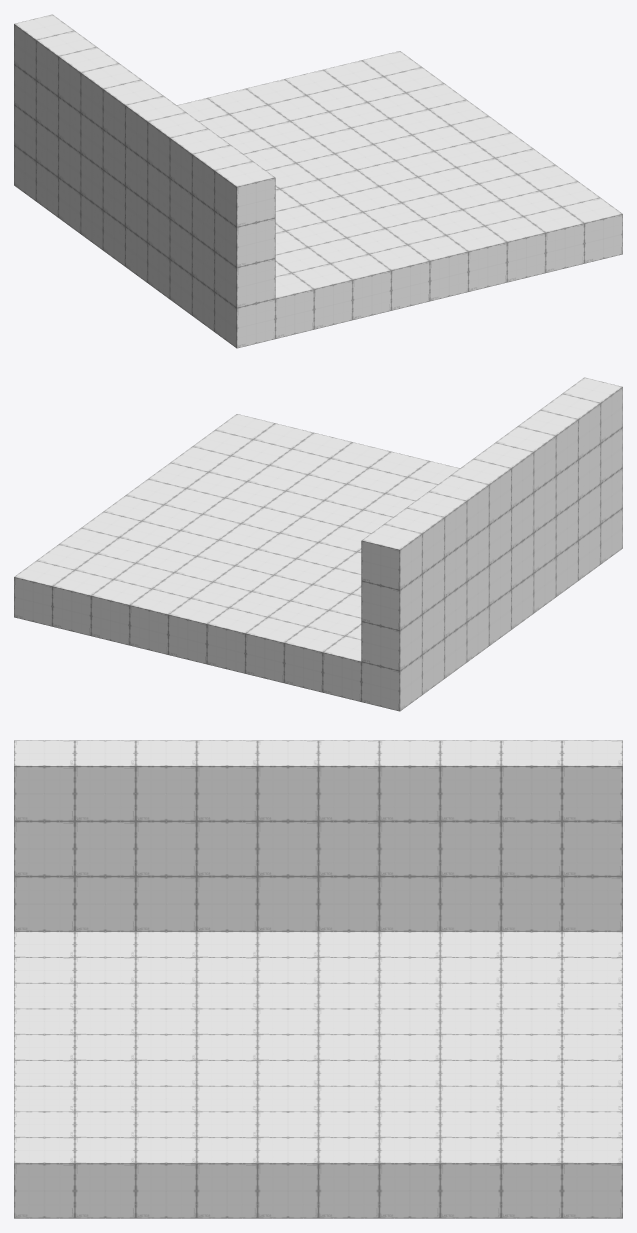
The model's file is ProB_Floor_1Wall_10x10.fbx.
3 views of the same model, one above another, from view 1: azimuth 30°, elevation 25°; view 2: azimuth 150°, elevation 25°; view 3: azimuth 270°, elevation 25° (orthographic). The views are drawn at different scales.
Parts seen in each view (by area): view 1: ProB_Floor_1Wall_10x10; view 2: ProB_Floor_1Wall_10x10; view 3: ProB_Floor_1Wall_10x10.
Part boxes in pixels (<box>): ProB_Floor_1Wall_10x10: <box>14,14,622,348</box>; ProB_Floor_1Wall_10x10: <box>14,377,622,711</box>; ProB_Floor_1Wall_10x10: <box>14,740,622,1218</box>.
Size of the model in its own units: 1000 by 400 by 1000.
